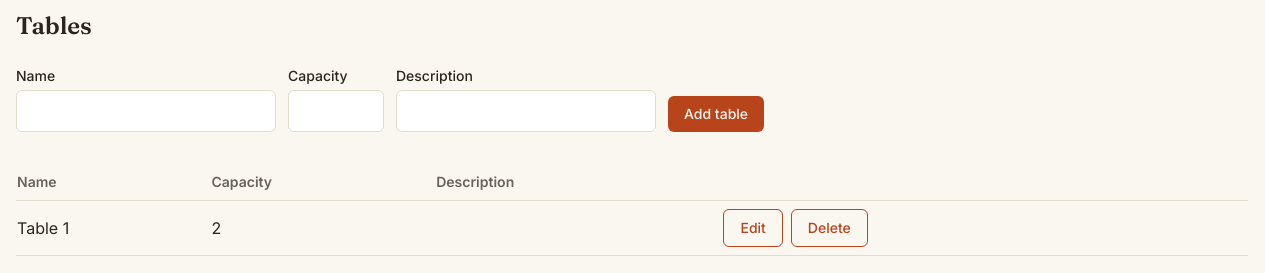
Test: AdminTables › edits a table
The width and height of the screenshot is (1265, 273).
Click the button "Edit" at (753, 228), box [724, 209, 783, 247]
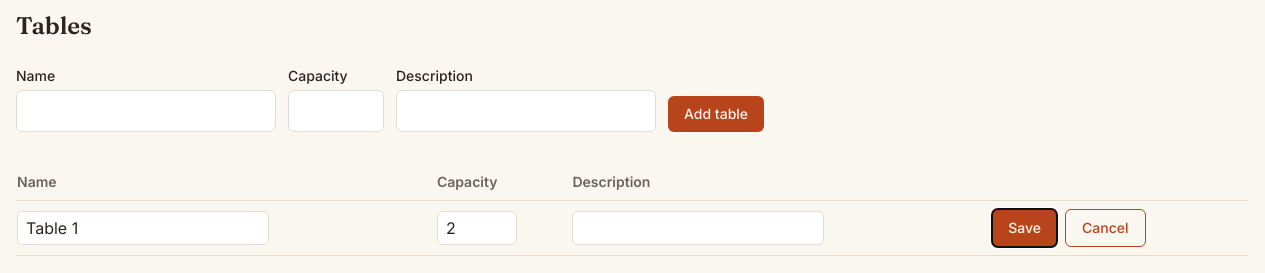
Replace the text in the field named "Edit name" with "Renamed Table" at (143, 228), box [17, 211, 269, 245]
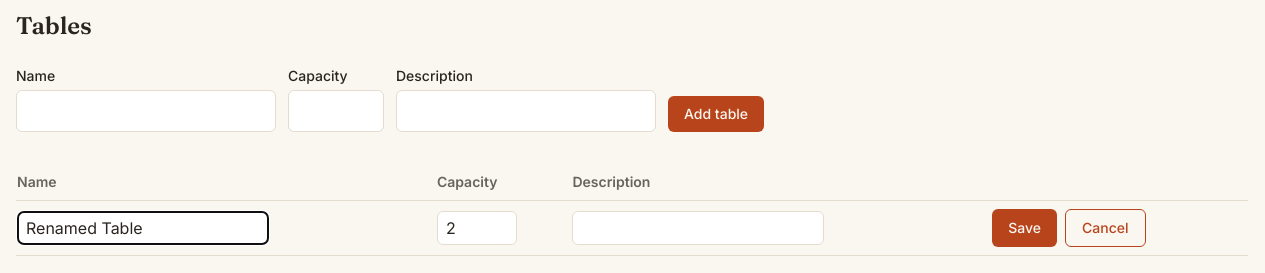
Click the button "Save" at (1025, 228), box [992, 209, 1057, 247]
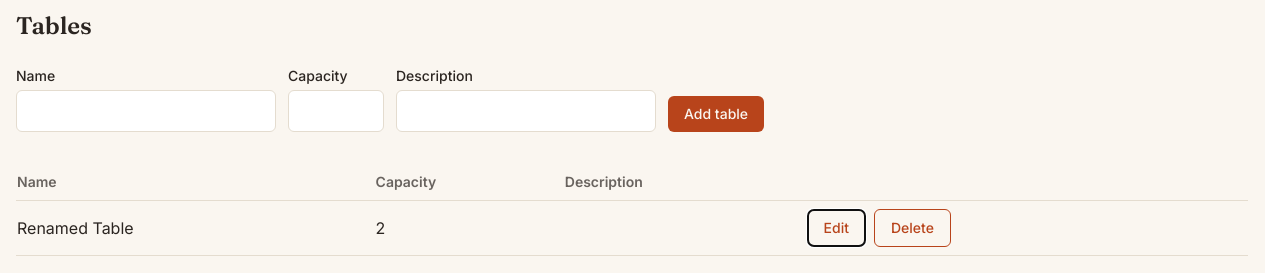
Check: the text "Renamed Table" is shown, box [16, 200, 375, 256]
